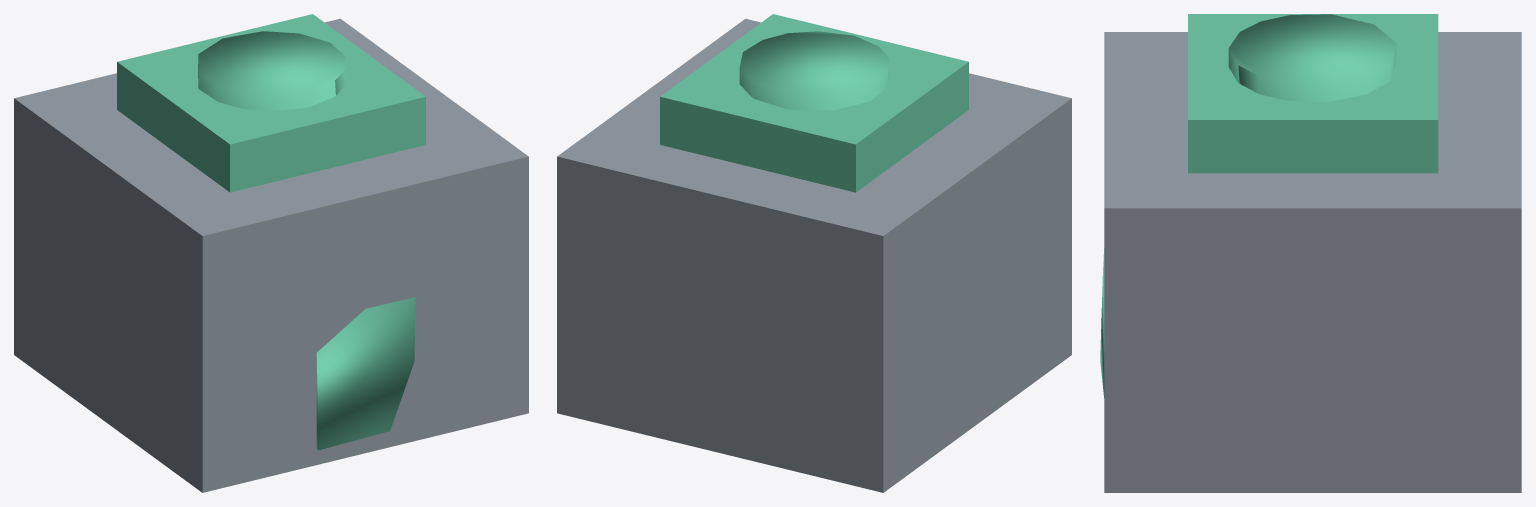
The model's file is CO_SuperweaponSeismic_LOD1.glb.
3 renders of one model, left to right at view 1: azimuth 30°, elevation 25°; view 2: azimuth 150°, elevation 25°; view 3: azimuth 270°, elevation 25°, orthographic. The views are drawn at different scales.
Parts seen in each view (by area): view 1: EntranceGate; view 2: EntranceGate; view 3: EntranceGate.
Part boxes in pixels (left/top/right/bottom): EntranceGate: left=14, top=14, right=528, bottom=492; EntranceGate: left=557, top=14, right=1071, bottom=492; EntranceGate: left=1100, top=14, right=1521, bottom=492.
Size of the model in its own units: 1000 by 940 by 1010.
